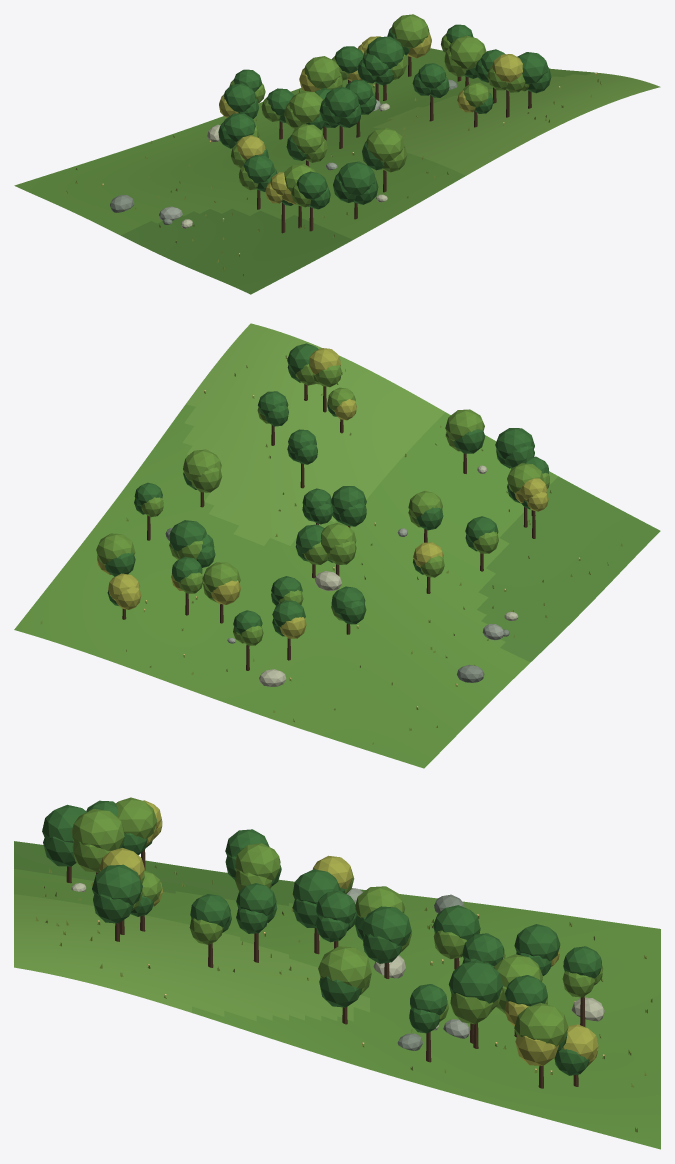
The model's file is Chunk_X-3_Y0_Z2.fbx.
3 views of the same model, one above another, from view 1: azimuth 30°, elevation 25°; view 2: azimuth 150°, elevation 25°; view 3: azimuth 270°, elevation 25° (orthographic). The views are drawn at different scales.
Visible parts, largest first — view 1: Terrain.005, Canopies.005, Trunks.005, Rocks.005, GroundCover.005; view 2: Terrain.005, Canopies.005, Rocks.005, Trunks.005; view 3: Terrain.005, Canopies.005, Rocks.005, Trunks.005, GroundCover.005.
Part boxes in pixels (x1,y1,x2,y2): Terrain.005: (14,48,660,294); Canopies.005: (218,14,551,209); Trunks.005: (257,56,531,233); Rocks.005: (110,79,457,228); GroundCover.005: (66,73,601,276); Terrain.005: (14,323,660,768); Canopies.005: (96,343,549,645); Rocks.005: (165,465,518,686); Trunks.005: (122,384,535,670); Terrain.005: (14,841,660,1149); Canopies.005: (42,797,603,1075); Rocks.005: (71,883,604,1050); Trunks.005: (66,850,585,1088); GroundCover.005: (35,864,652,1132).
Size of the model in its own units: 100 by 47.18 by 100.
